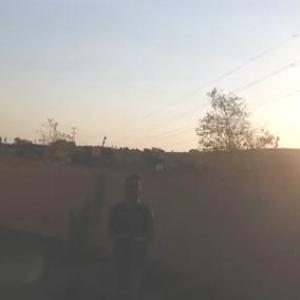follow: (102, 167, 162, 299)
